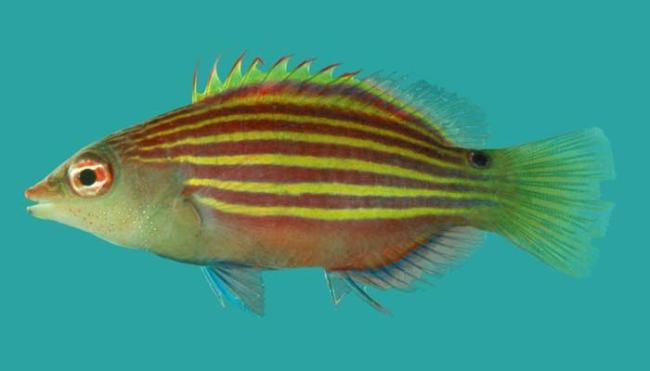fish: (24, 49, 616, 318)
